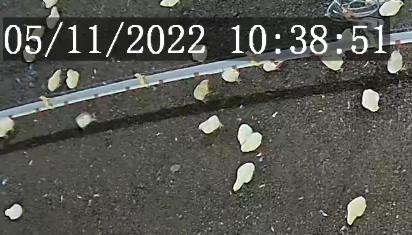chick: (233, 161, 256, 193), (345, 196, 368, 227), (192, 78, 214, 105), (320, 55, 347, 74), (361, 87, 381, 112), (198, 116, 225, 134), (220, 67, 244, 85), (241, 133, 262, 152), (4, 202, 25, 221), (45, 6, 60, 31), (387, 49, 402, 73), (64, 68, 81, 89), (0, 116, 15, 139), (47, 70, 61, 92), (237, 123, 253, 142), (22, 46, 37, 64)
